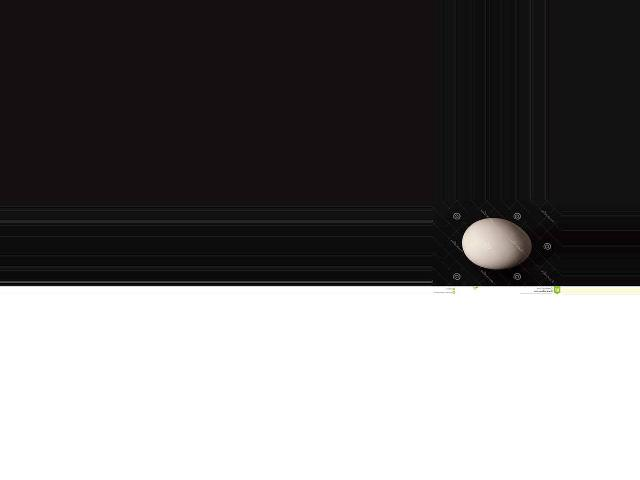egg: (461, 218, 531, 269)
